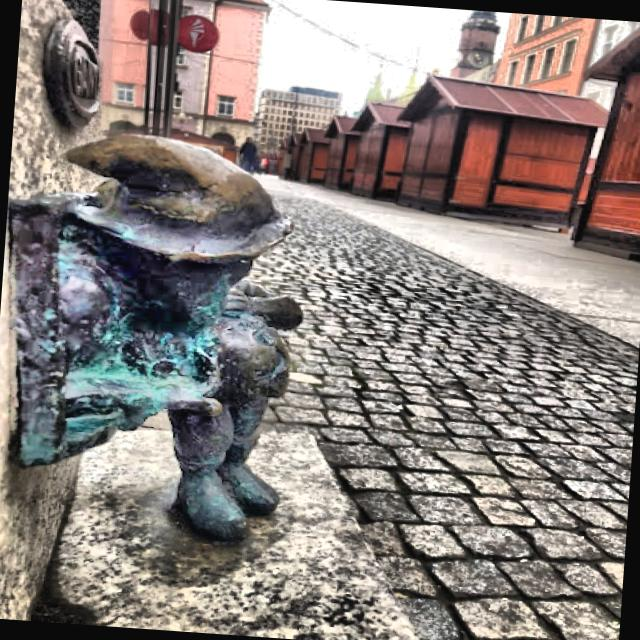Kantorki: (11, 135, 301, 540)
